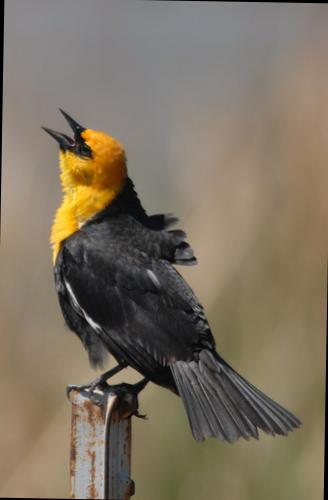bird: (14, 96, 312, 444)
